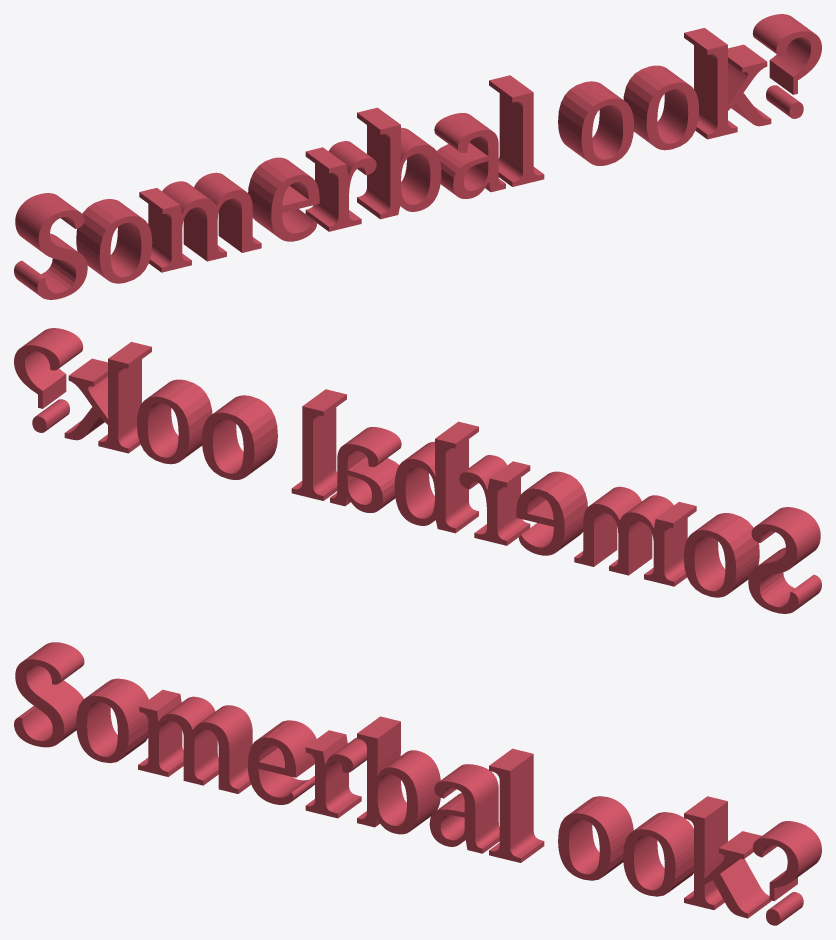
File: Somerbal-Ook.glb
The picture shows the model from 3 angles, top to bottom: view 1: azimuth 30°, elevation 25°; view 2: azimuth 150°, elevation 25°; view 3: azimuth 330°, elevation 25°; orthographic projection.
Parts seen in each view (by area): view 1: Mesh_Mesh_head_geo.001_lambert2SG.001; view 2: Mesh_Mesh_head_geo.001_lambert2SG.001; view 3: Mesh_Mesh_head_geo.001_lambert2SG.001.
Part boxes in pixels (bbox=[...]): Mesh_Mesh_head_geo.001_lambert2SG.001: bbox=[14, 14, 821, 299]; Mesh_Mesh_head_geo.001_lambert2SG.001: bbox=[14, 328, 821, 613]; Mesh_Mesh_head_geo.001_lambert2SG.001: bbox=[14, 642, 821, 925].
Bounding box in the file's own units: 193 × 21.38 × 10.
